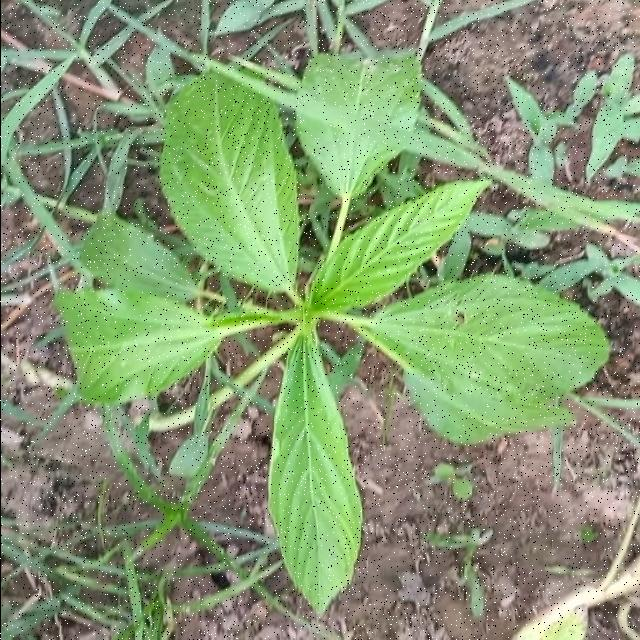plant: (56, 74, 606, 610), (300, 55, 418, 130), (297, 118, 399, 200)
